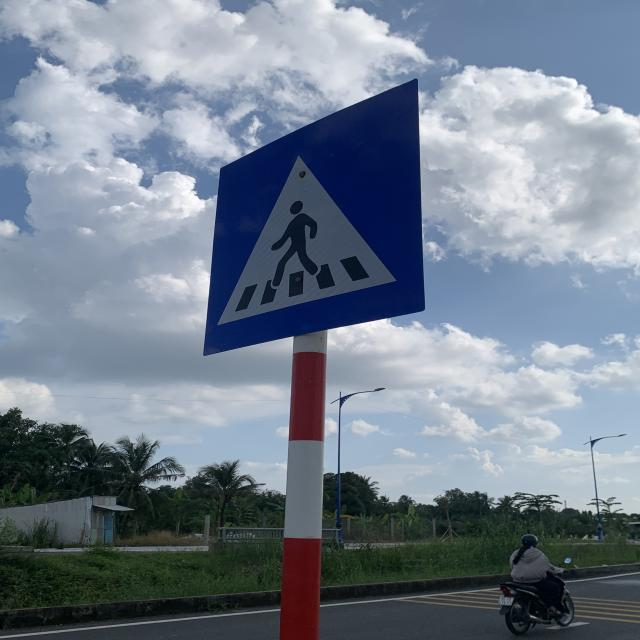Giao_Nhau_Duong_Uu_Tien: (202, 77, 425, 356)
